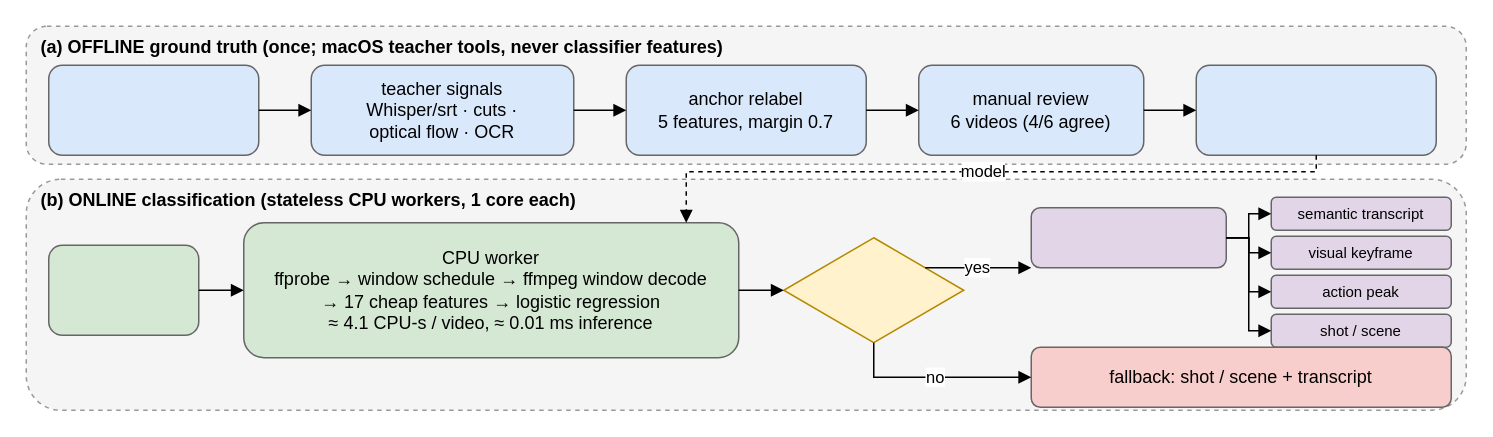
Some shapes in this 1493 by 437 pixel diagram are drawn without their labels. Here are the shapes that lost their labels. From the top down, the centre of each, then its label:
(x=153, y=109): sub_category prior GT v0 (22 flagged)
(x=1315, y=109): GT v1 18/27/21/24 → train logreg (JSON)
(x=1128, y=237): chunker router
(x=123, y=289): ingestion queue (video URI)
(x=873, y=289): max prob ≥ 0.5 ?
